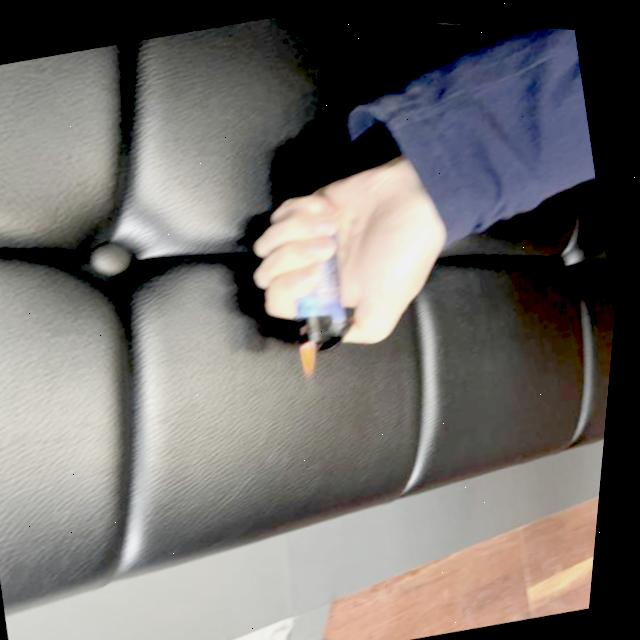Fire: (298, 333, 333, 379)
